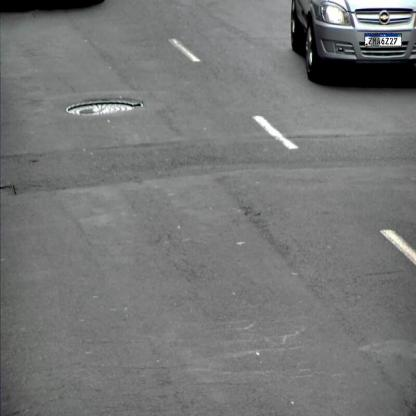PlacaM: (364, 34, 402, 46)
